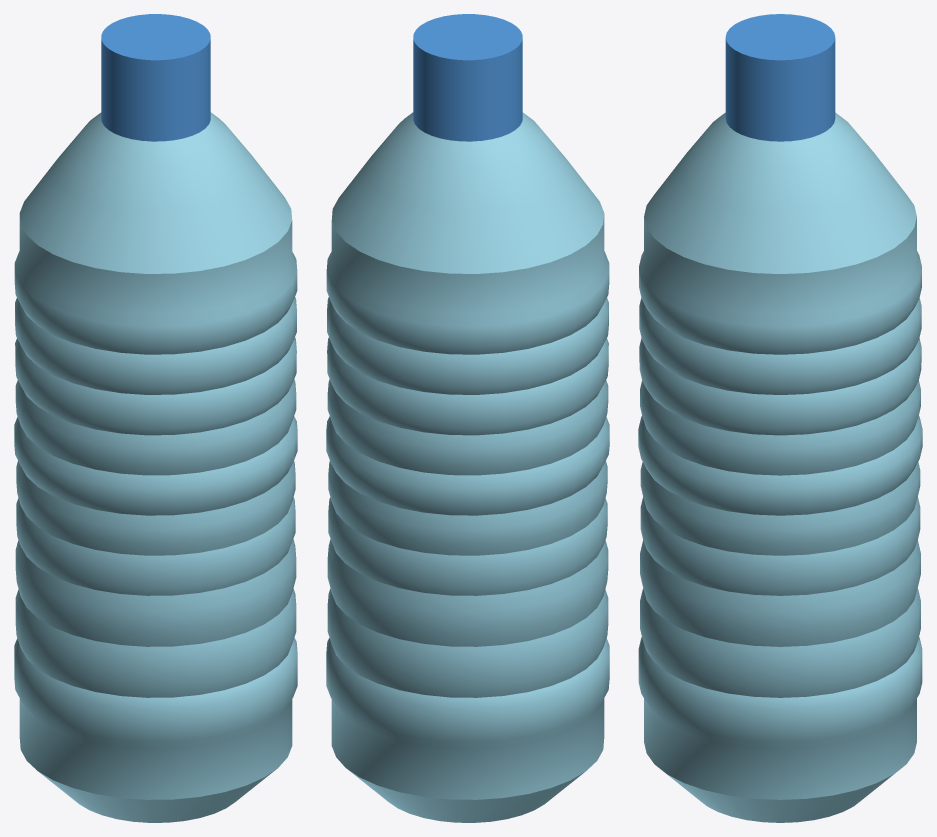
File: Su_sisesi (3).fbx
The picture shows the model from 3 angles, left to right: view 1: azimuth 30°, elevation 25°; view 2: azimuth 150°, elevation 25°; view 3: azimuth 270°, elevation 25°; orthographic projection.
Visible parts, largest first — view 1: Cylinder, Cylinder.001; view 2: Cylinder, Cylinder.001; view 3: Cylinder, Cylinder.001.
Part boxes in pixels (box(x1,y1,x2,y2)): Cylinder: box(14, 112, 297, 822); Cylinder.001: box(101, 14, 210, 141); Cylinder: box(326, 112, 609, 822); Cylinder.001: box(413, 14, 522, 141); Cylinder: box(638, 112, 922, 822); Cylinder.001: box(725, 14, 835, 141).
Bounding box in the file's own units: 147 × 426 × 147.
